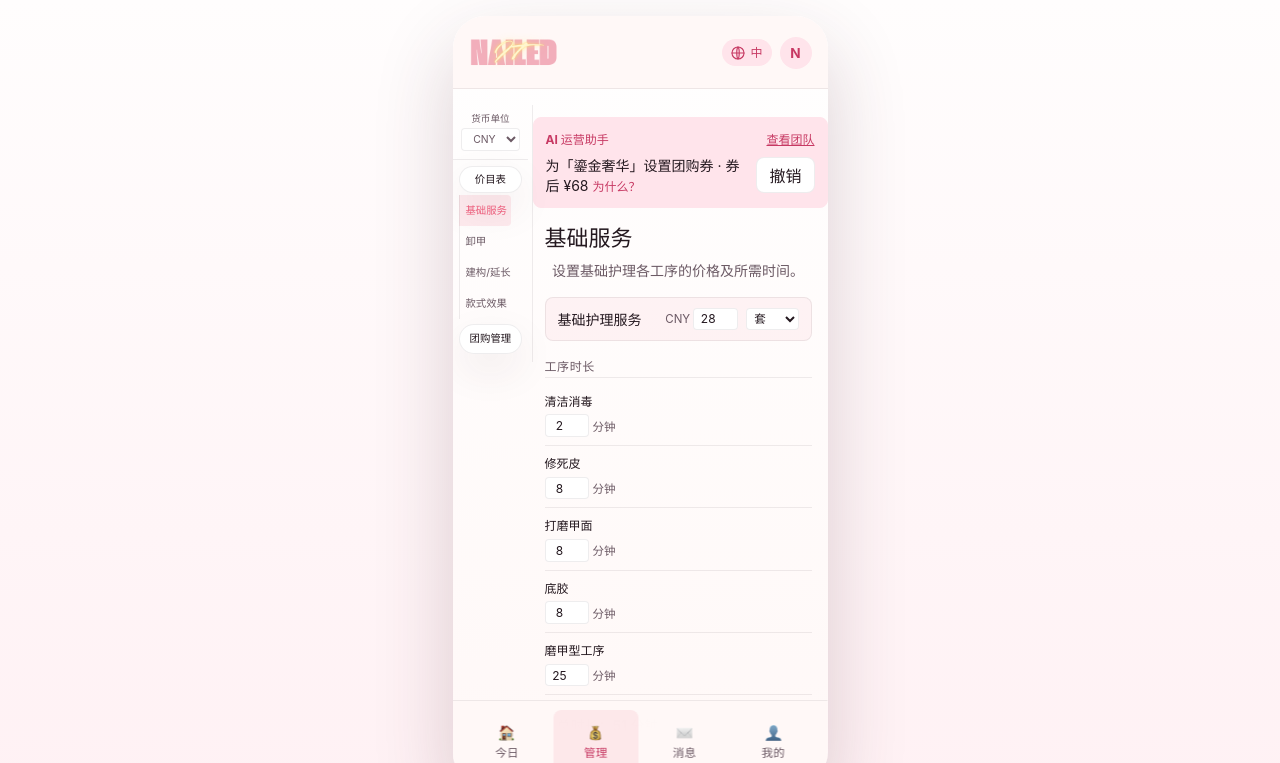
Test: MerchantManagePage › expands service content accordion and shows enabled items
Expected: the number field named "基础护理服务 单价" is shown, [693, 308, 738, 330]
Click the button "团购管理".
click(490, 339)  # box [459, 324, 522, 354]
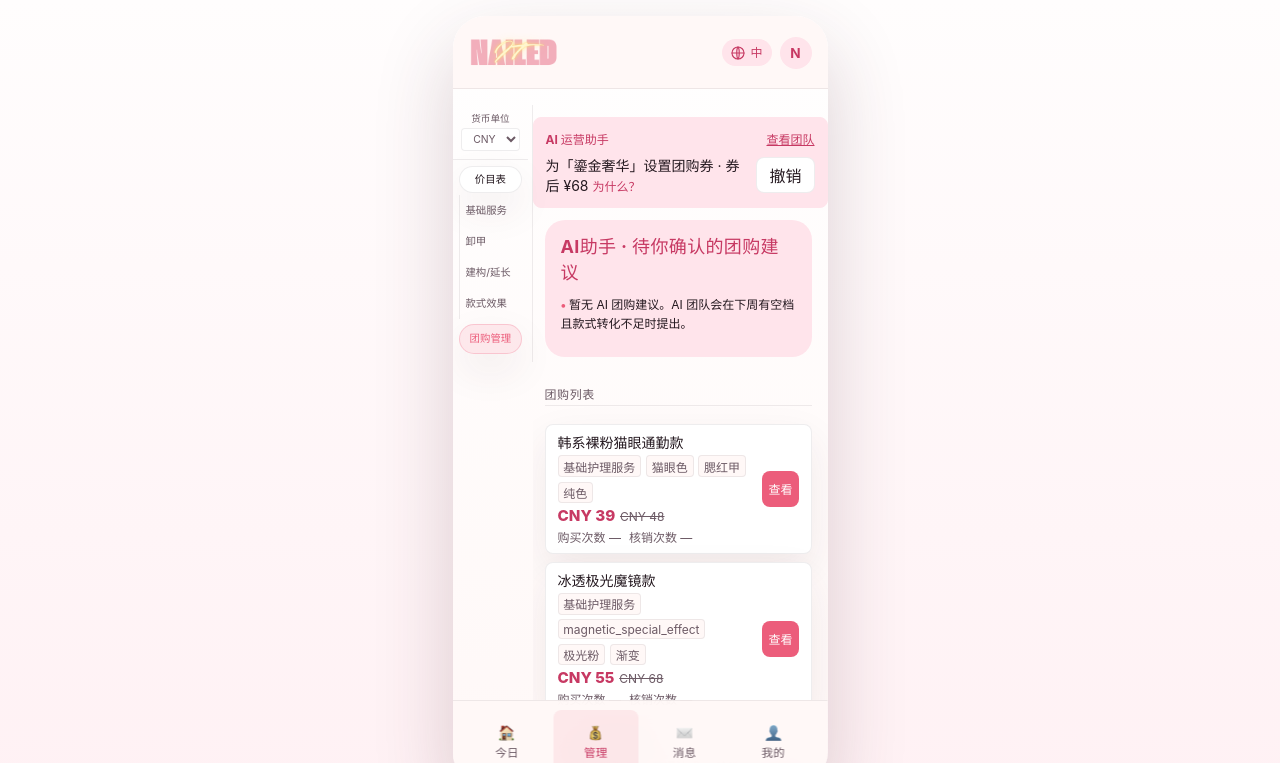
Click the button "查看" next to "腮红甲".
click(780, 489)  # box [762, 471, 798, 507]
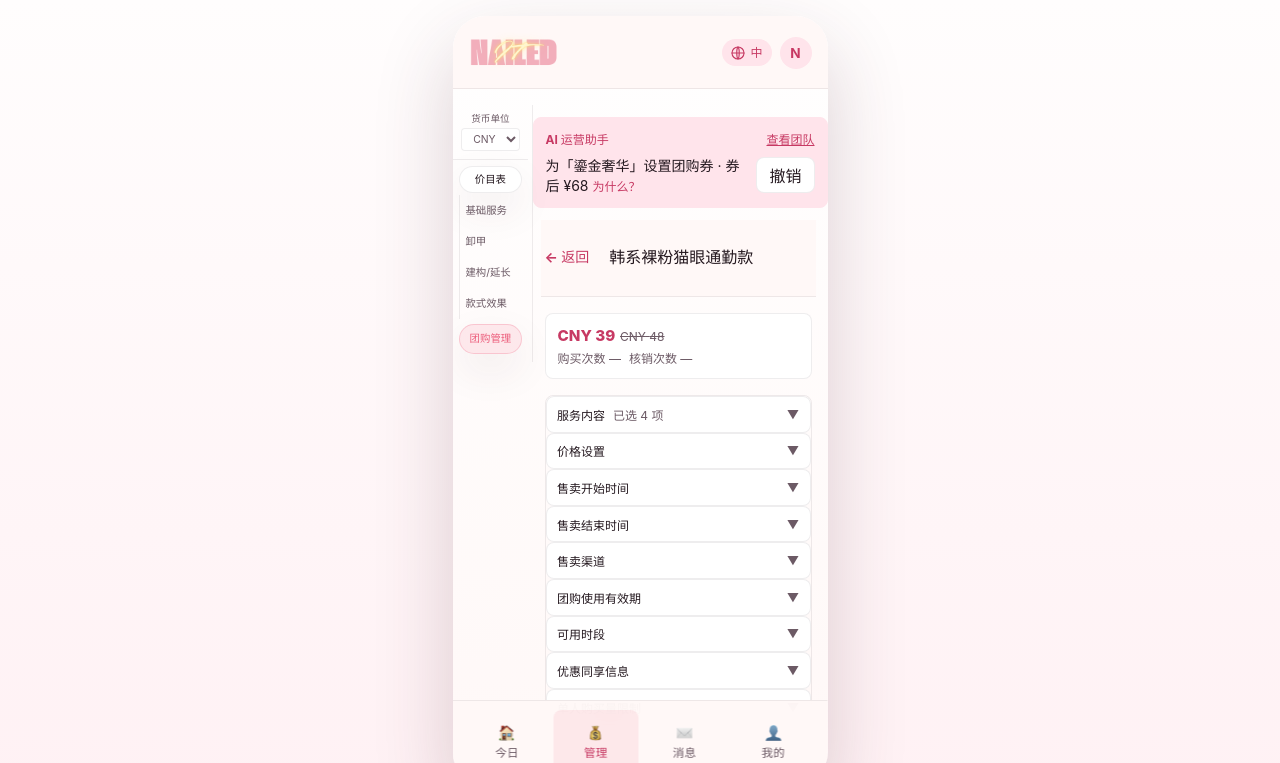
Click the button "服务内容 已选 4 项 ▼".
click(581, 415)  # box [546, 397, 810, 432]
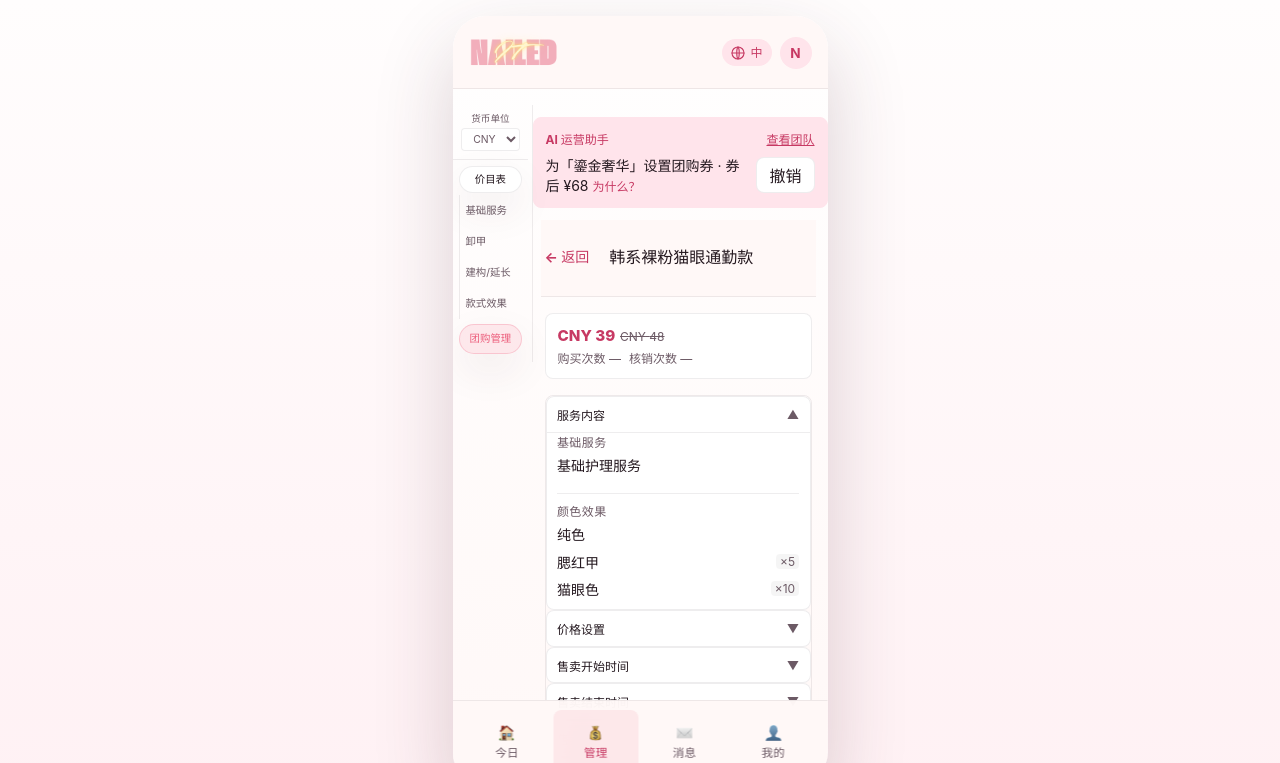
Expected: the button "服务内容 ▲" is expanded, [546, 397, 810, 432]
Expected: the text "基础护理服务" is shown, [557, 455, 641, 475]
